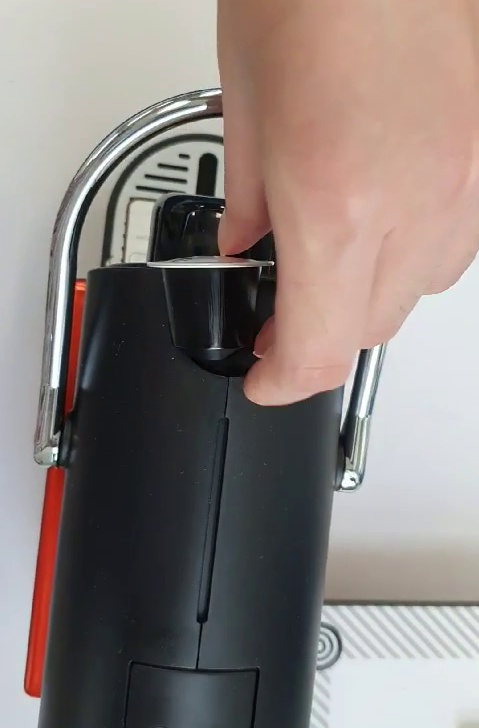capsule_10: (143, 250, 282, 362)
